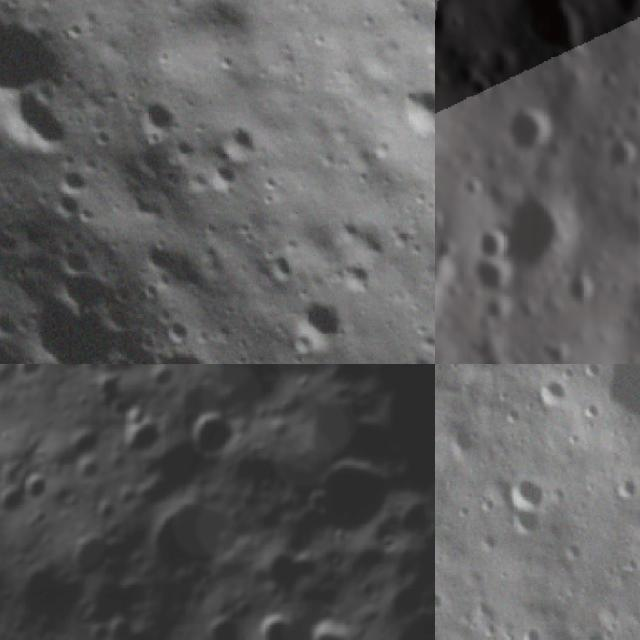crater: (135, 476, 248, 594), (7, 267, 135, 364), (0, 0, 88, 123), (0, 73, 88, 179), (564, 364, 640, 467), (280, 286, 354, 361), (506, 196, 570, 276), (383, 69, 435, 149), (210, 109, 272, 173), (183, 404, 246, 464), (106, 409, 166, 472), (129, 224, 189, 286), (126, 87, 186, 146), (51, 529, 109, 588), (47, 157, 101, 210), (51, 233, 104, 286), (194, 152, 248, 203), (502, 465, 553, 517), (507, 105, 558, 156), (38, 178, 88, 230), (3, 338, 92, 364), (139, 338, 226, 364), (530, 370, 578, 417), (296, 606, 359, 640), (472, 218, 512, 264), (262, 245, 302, 290), (506, 500, 550, 539), (246, 608, 299, 640), (0, 298, 30, 347), (373, 342, 435, 364), (487, 41, 520, 77), (607, 135, 640, 169), (22, 468, 54, 501), (612, 468, 640, 505), (466, 72, 495, 98), (435, 581, 454, 620), (577, 620, 614, 640), (7, 364, 47, 381), (51, 364, 91, 380), (515, 623, 548, 640), (105, 349, 137, 364)
